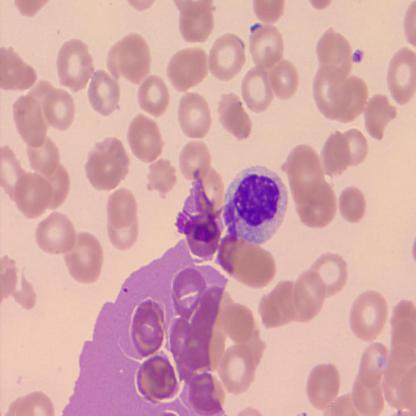Metamyelocyte: (222, 161, 290, 244)
